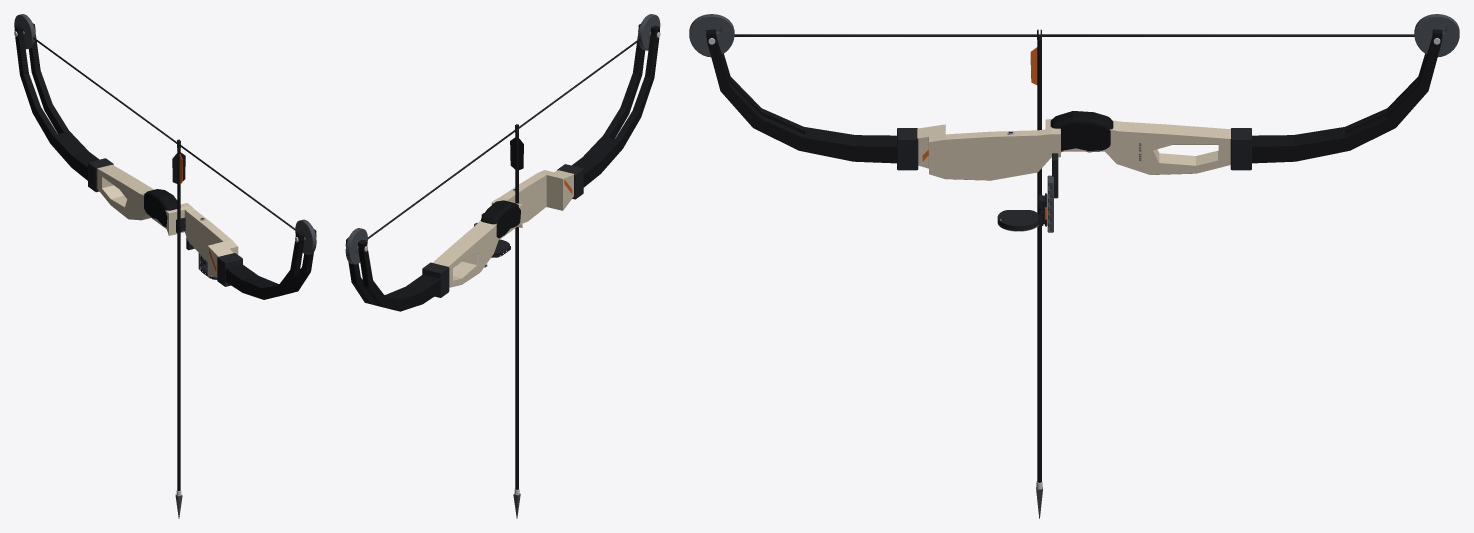
File: BASIC-07-v2.1.fbx
The picture shows the model from 3 angles, left to right: view 1: azimuth 30°, elevation 25°; view 2: azimuth 150°, elevation 25°; view 3: azimuth 270°, elevation 25°; orthographic projection. The views are drawn at different scales.
Visible parts, largest first — view 1: riser, limb_bottom, limb_top, arrow_shaft, grip, pocket_top, cam_top, cam_bottom, string_bottom, pocket_bottom; view 2: riser, limb_top, limb_bottom, arrow_shaft, grip, pocket_bottom, cam_bottom, cam_top, string_bottom, pocket_top; view 3: riser, limb_bottom, limb_top, grip, arrow_shaft, cam_bottom, cam_top, string_bottom, pocket_bottom, pocket_top, string_top.
Boxes of the visible parts, box(x1,y1,x2,y2) form: riser: box(97, 164, 238, 277); limb_bottom: box(14, 23, 99, 180); limb_top: box(225, 229, 316, 299); arrow_shaft: box(177, 144, 180, 490); grip: box(144, 189, 177, 226); pocket_top: box(217, 253, 242, 286); cam_top: box(295, 219, 316, 254); cam_bottom: box(14, 14, 35, 49); string_bottom: box(33, 37, 176, 143); pocket_bottom: box(88, 158, 113, 192); riser: box(432, 170, 574, 287); limb_top: box(572, 24, 659, 187); limb_bottom: box(346, 237, 440, 311); arrow_shaft: box(515, 129, 518, 489); grip: box(480, 200, 520, 238); pocket_bottom: box(422, 262, 449, 297); cam_bottom: box(345, 228, 367, 264); cam_top: box(638, 14, 660, 50); string_bottom: box(368, 129, 516, 239); pocket_top: box(557, 164, 583, 199); riser: box(917, 119, 1230, 180); limb_bottom: box(1252, 29, 1442, 163); limb_top: box(706, 29, 896, 163); grip: box(1050, 111, 1113, 152); arrow_shaft: box(1037, 36, 1041, 482); cam_bottom: box(1414, 14, 1459, 57); cam_top: box(689, 14, 734, 57); string_bottom: box(1039, 34, 1414, 36); pocket_bottom: box(1230, 128, 1251, 170); pocket_top: box(897, 128, 918, 170); string_top: box(734, 34, 1039, 36).
Bounding box in the file's own units: 0.1068 × 0.733 × 1.02.
